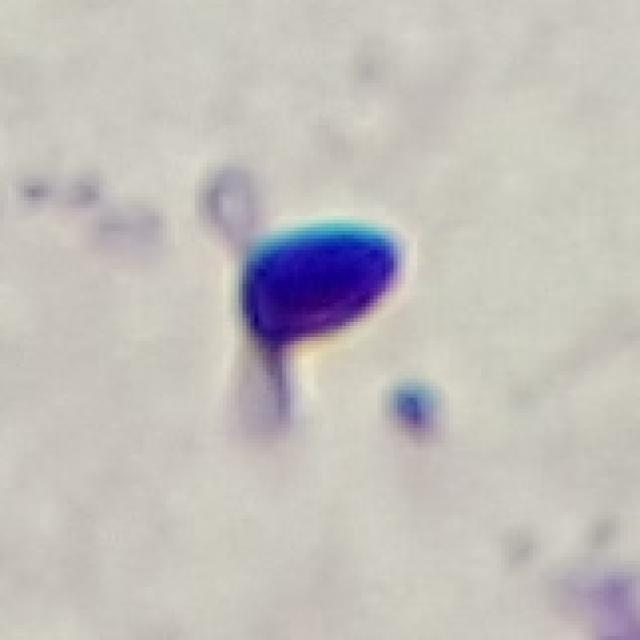non-sperm: (197, 161, 406, 424)
